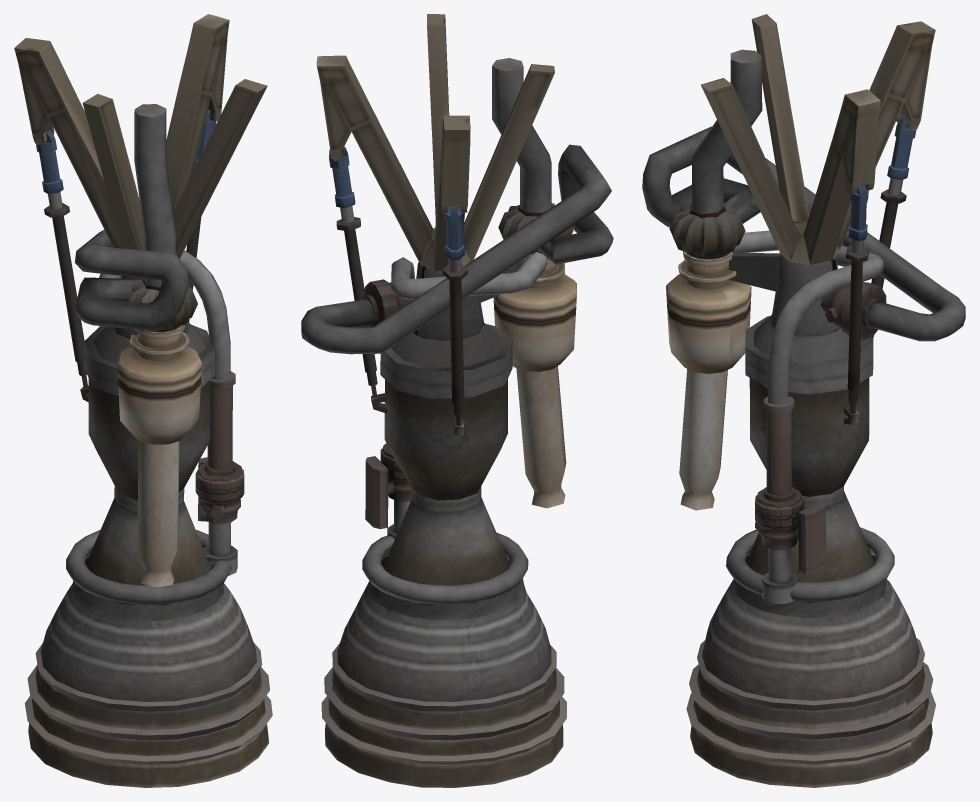
File: merlin_engine.glb
3 views of the same model, side by side, from view 1: azimuth 30°, elevation 25°; view 2: azimuth 150°, elevation 25°; view 3: azimuth 270°, elevation 25° (orthographic).
Parts seen in each view (by area): view 1: Object030_04 - Default_0; view 2: Object030_04 - Default_0; view 3: Object030_04 - Default_0.
Part boxes in pixels (x1,y1,x2,y2): Object030_04 - Default_0: (14, 14, 272, 787); Object030_04 - Default_0: (301, 14, 613, 787); Object030_04 - Default_0: (642, 14, 965, 787).
Size of the model in its own units: 200 by 572 by 245.
Materials: 1 (1 with a texture image).
